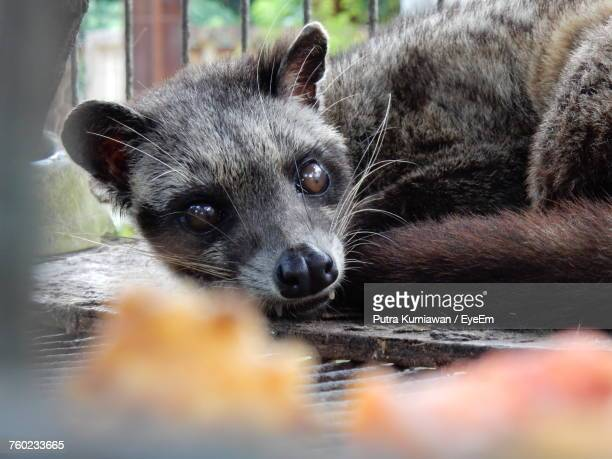Civet: (66, 1, 371, 318)
